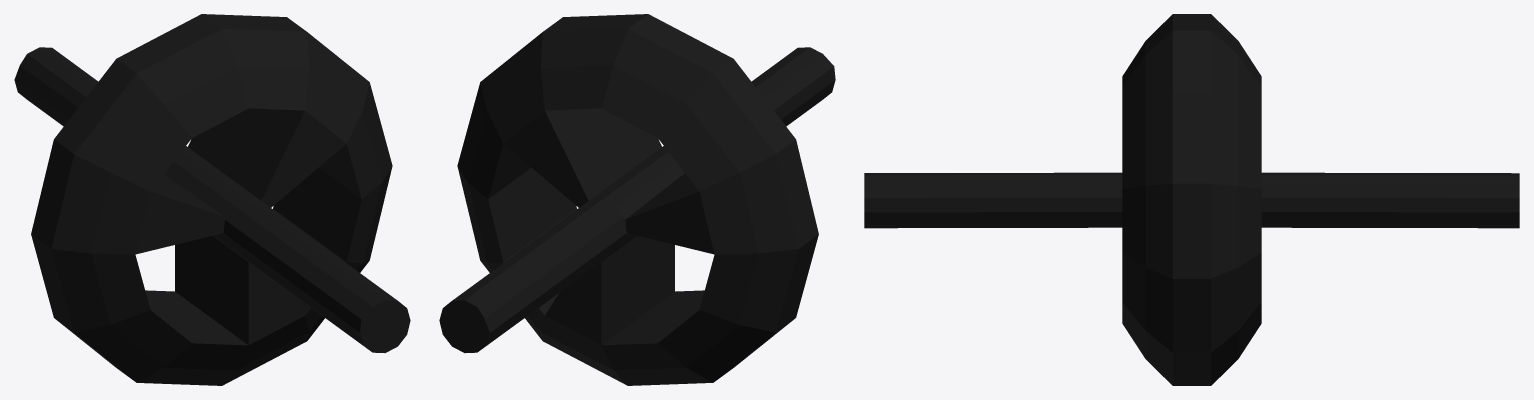
File: AbWheel.002.fbx
The picture shows the model from 3 angles, left to right: view 1: azimuth 30°, elevation 25°; view 2: azimuth 150°, elevation 25°; view 3: azimuth 270°, elevation 25°; orthographic projection. The views are drawn at different scales.
Visible parts, largest first — view 1: AbWheel.002; view 2: AbWheel.002; view 3: AbWheel.002.
Boxes of the visible parts, box(x1,y1,x2,y2) form: AbWheel.002: box(14, 14, 410, 385); AbWheel.002: box(439, 14, 835, 385); AbWheel.002: box(864, 14, 1519, 385).
Size of the model in its own units: 22.77 by 22.77 by 39.96.
